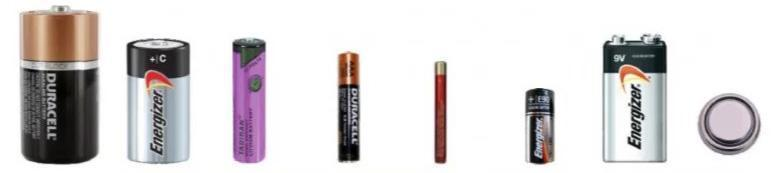AA: (231, 34, 269, 166)
COIN: (696, 91, 764, 158)
